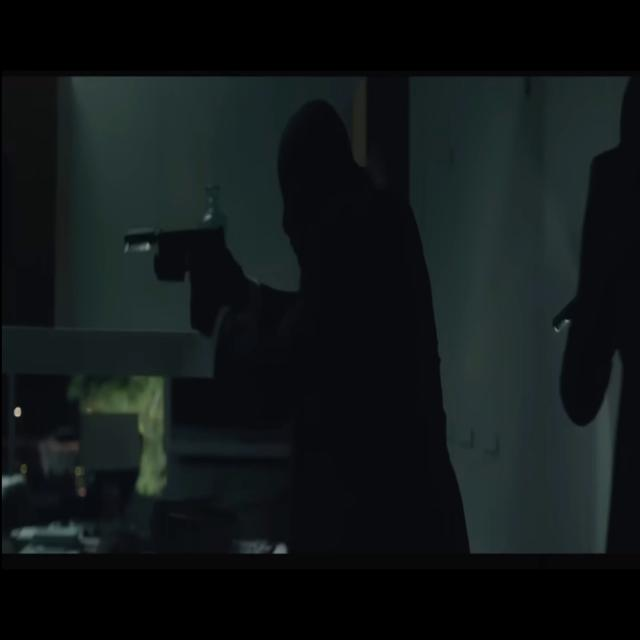weapons: (110, 207, 245, 312)
